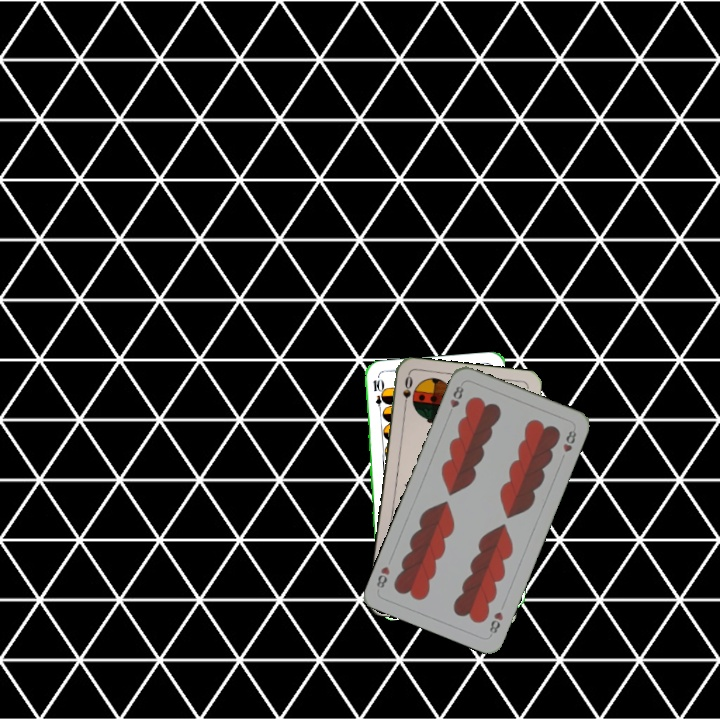E10: (369, 375, 385, 416)
H8: (485, 607, 506, 639), (446, 382, 466, 410)
SO: (399, 372, 415, 412)
